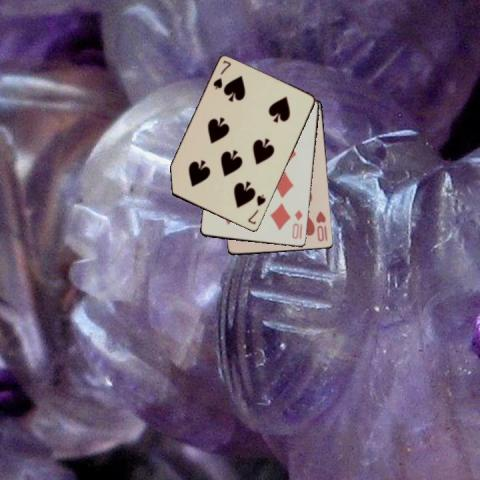10d: (289, 206, 304, 241)
10h: (313, 208, 329, 243)
7s: (245, 191, 267, 226), (210, 58, 233, 91)
